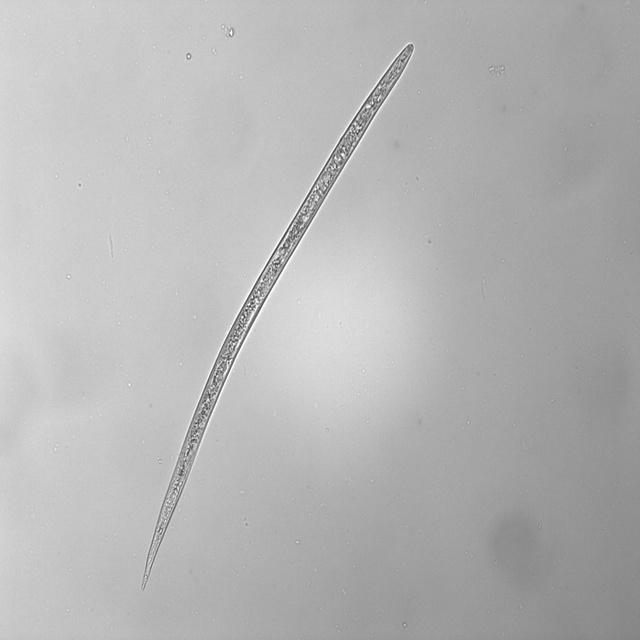Meloidogyne: (136, 38, 428, 596)
